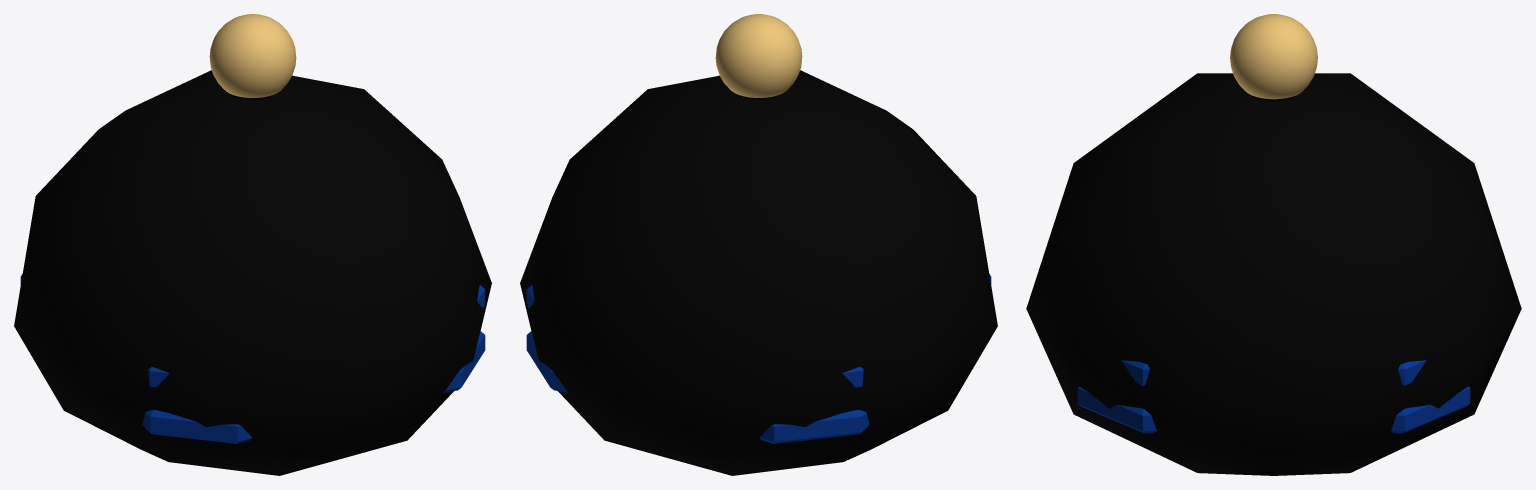
The model's file is 01_turret_beamSpire.glb.
3 views of the same model, side by side, from view 1: azimuth 30°, elevation 25°; view 2: azimuth 150°, elevation 25°; view 3: azimuth 270°, elevation 25° (orthographic).
Parts seen in each view (by area): view 1: 01_turret_beamspire_aegis, 01_turret_beamspire; view 2: 01_turret_beamspire_aegis, 01_turret_beamspire; view 3: 01_turret_beamspire_aegis, 01_turret_beamspire.
Boxes of the visible parts, x1=… form: 01_turret_beamspire_aegis: x1=14, y1=70, x2=491, y2=475; 01_turret_beamspire: x1=20, y1=14, x2=485, y2=443; 01_turret_beamspire_aegis: x1=520, y1=70, x2=997, y2=475; 01_turret_beamspire: x1=526, y1=14, x2=991, y2=443; 01_turret_beamspire_aegis: x1=1026, y1=73, x2=1521, y2=475; 01_turret_beamspire: x1=1077, y1=14, x2=1470, y2=433.
Bounding box in the file's own units: 1.14 × 1.19 × 1.2.
